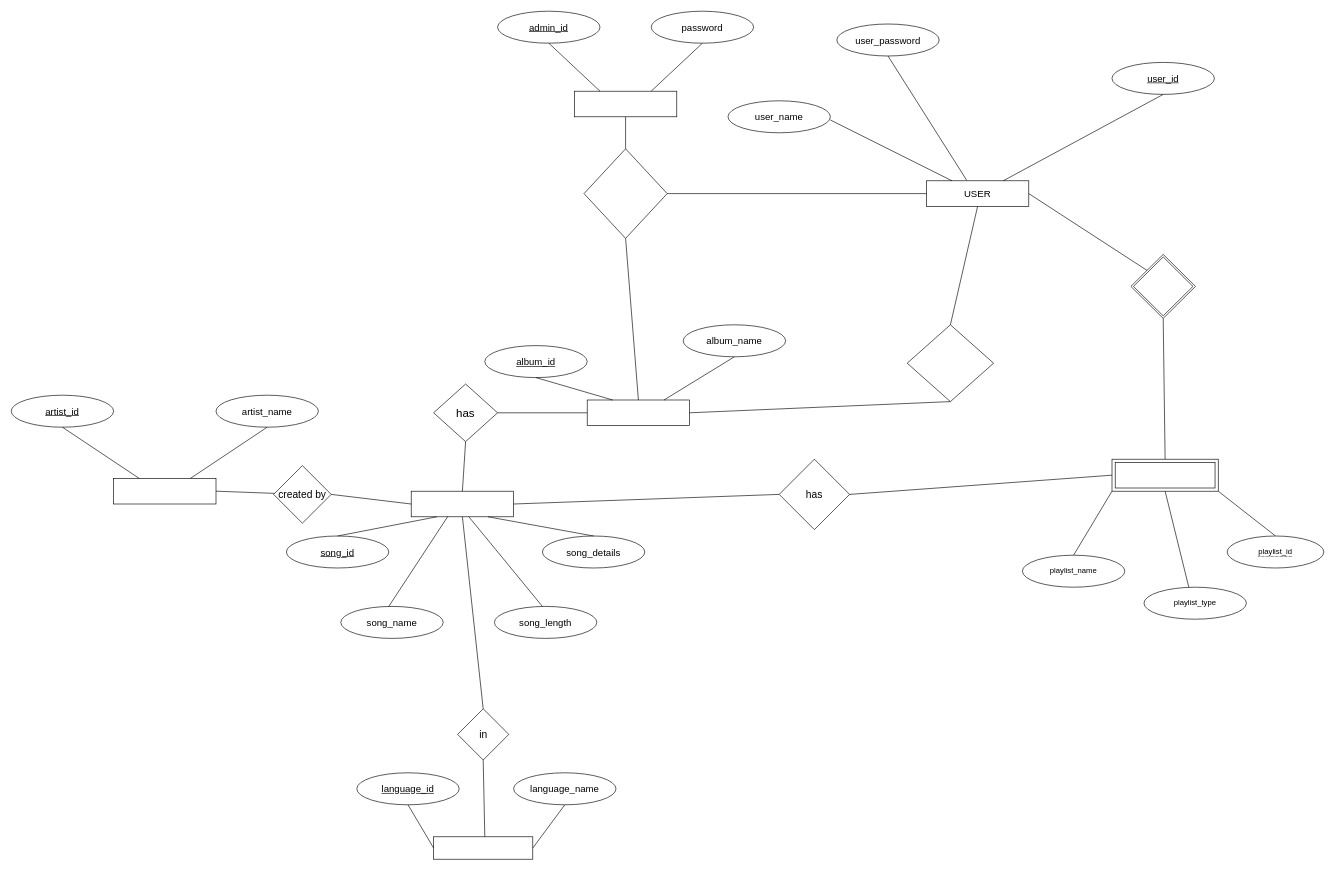
Image size: 1335x870. Some labels were removed from this diagram. Here are the shapes that lost their labels. From the top down, the centre of each, then its label:
At (x=625, y=104): "ADMIN".
At (x=625, y=193): "manages".
At (x=1163, y=286): "creates".
At (x=950, y=363): "access".
At (x=638, y=412): "ALBUM".
At (x=164, y=491): "ARTIST".
At (x=1164, y=475): "PLAYLIST".
At (x=462, y=504): "SONG".
At (x=483, y=847): "LANGUAGE".
